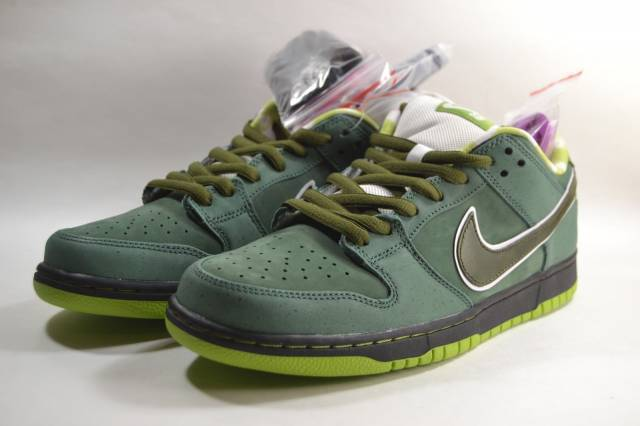Nike SB Dunk Green Lobster: (155, 99, 582, 385), (29, 38, 435, 332)
